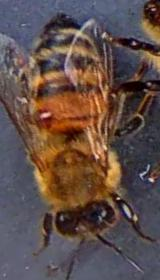varroa_mite: (20, 93, 61, 140)
